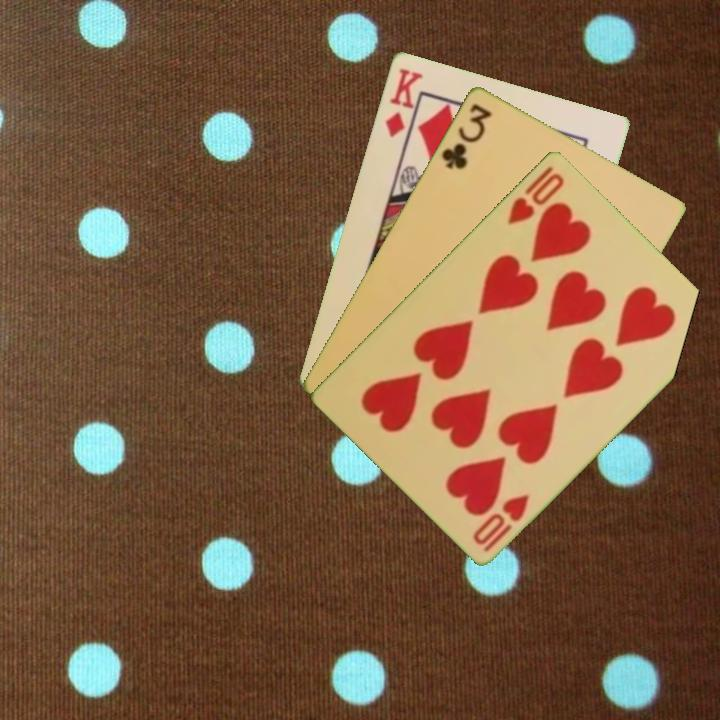10h: (503, 162, 568, 227), (469, 490, 532, 555)
3c: (437, 99, 495, 172)
Kd: (381, 64, 426, 140)
